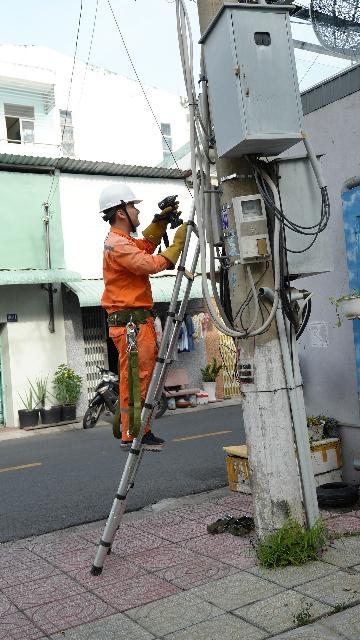gloves: (133, 208, 177, 244), (162, 218, 195, 264)
harness: (93, 299, 160, 331)
helmet: (82, 181, 144, 215)
shoes: (111, 425, 168, 458)
